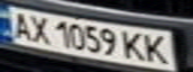0: (66, 20, 84, 52)
1: (48, 17, 72, 48)
5: (81, 24, 103, 55)
9: (100, 26, 121, 57)
A: (6, 9, 36, 40)
K: (139, 32, 172, 65), (118, 29, 148, 62)
X: (24, 12, 54, 45)
